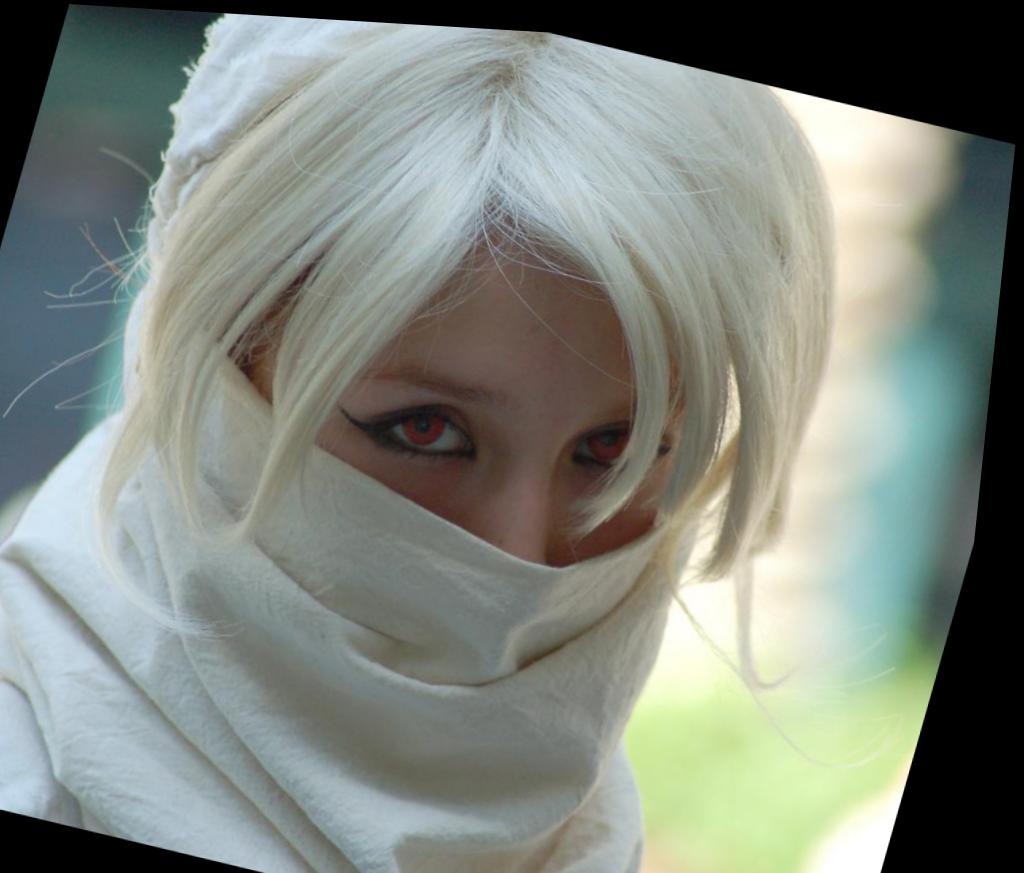WRONG: (144, 170, 786, 812)
